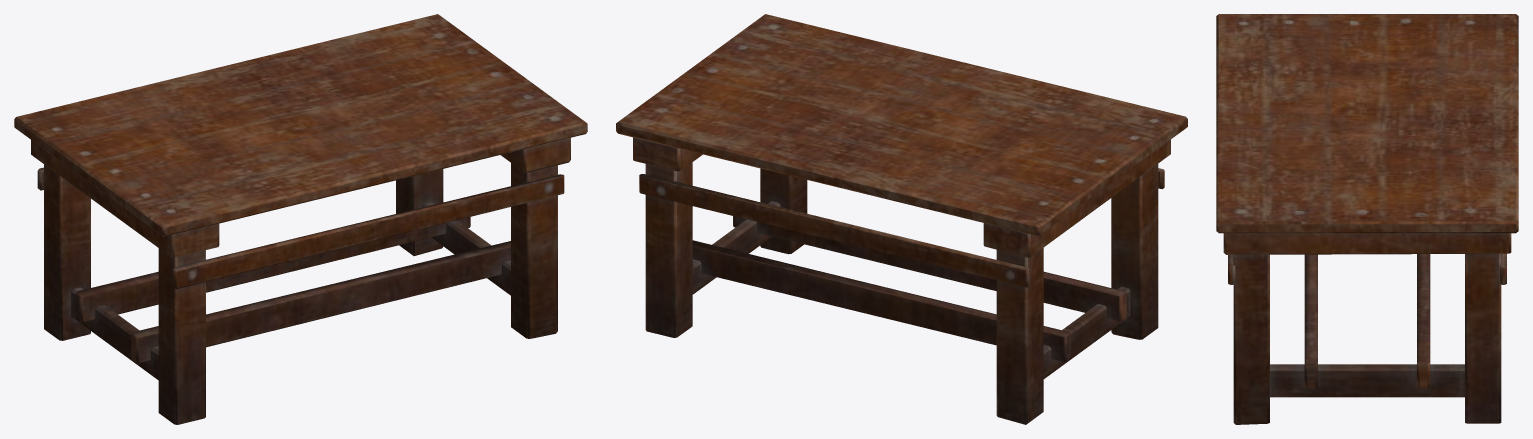
3 renders of one model, left to right at view 1: azimuth 30°, elevation 25°; view 2: azimuth 150°, elevation 25°; view 3: azimuth 270°, elevation 25°, orthographic.
Visible parts, largest first — view 1: table; view 2: table; view 3: table.
Part boxes in pixels (left/top/right/bottom): table: left=14, top=14, right=587, bottom=424; table: left=616, top=14, right=1187, bottom=424; table: left=1216, top=14, right=1518, bottom=424.
Size of the model in its own units: 1.57 by 0.75 by 0.9594.
1 material, 1 textured.
